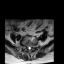CCS_normal: (28, 43, 30, 51)
LFS_stenosis: (32, 43, 34, 49)
LLS_normal: (30, 43, 32, 50)
RFS_severe_stenosis: (25, 43, 26, 49)
RLS_normal: (26, 44, 28, 51)
